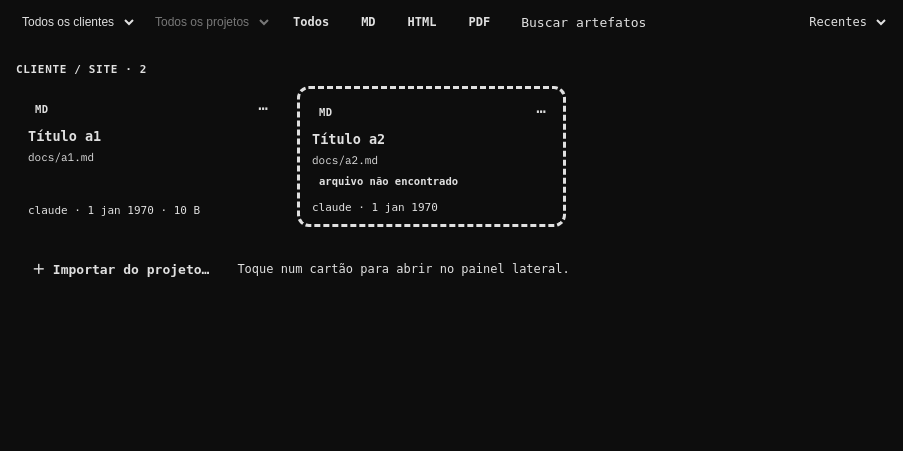
Test case: menu do cartão › ⋯ abre o menu com as 6 ações; Esc fecha
Click the button named "Ações de Título a1" at coordinates (263, 108), box left=245, top=90, right=281, bottom=126
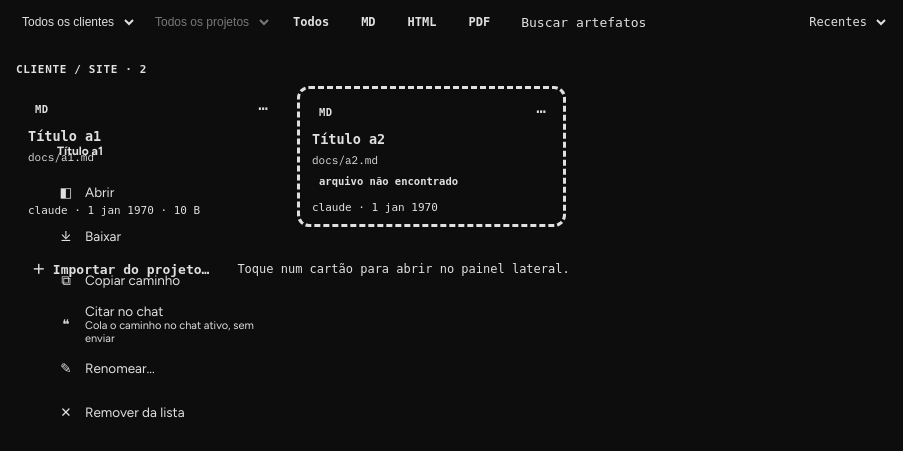
Now the number of menu items is 6, box left=47, top=170, right=275, bottom=214; left=60, top=228, right=121, bottom=244; left=47, top=258, right=275, bottom=302; left=47, top=302, right=275, bottom=346; left=47, top=346, right=275, bottom=390; left=47, top=390, right=275, bottom=434
Now the menu item "◧ Abrir" is shown, box left=47, top=170, right=275, bottom=214
Now the menu item "⤓ Baixar" is shown, box left=60, top=228, right=121, bottom=244
Press Escape
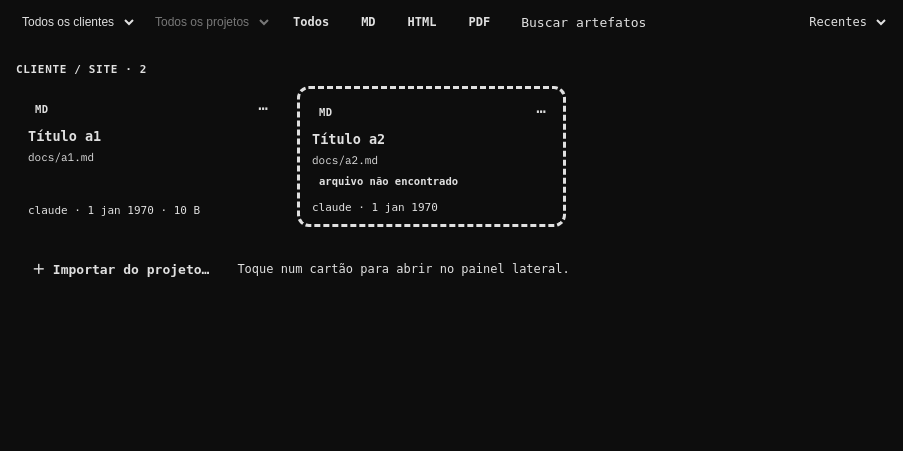
Now the menu with test id "artifact-menu" is gone
